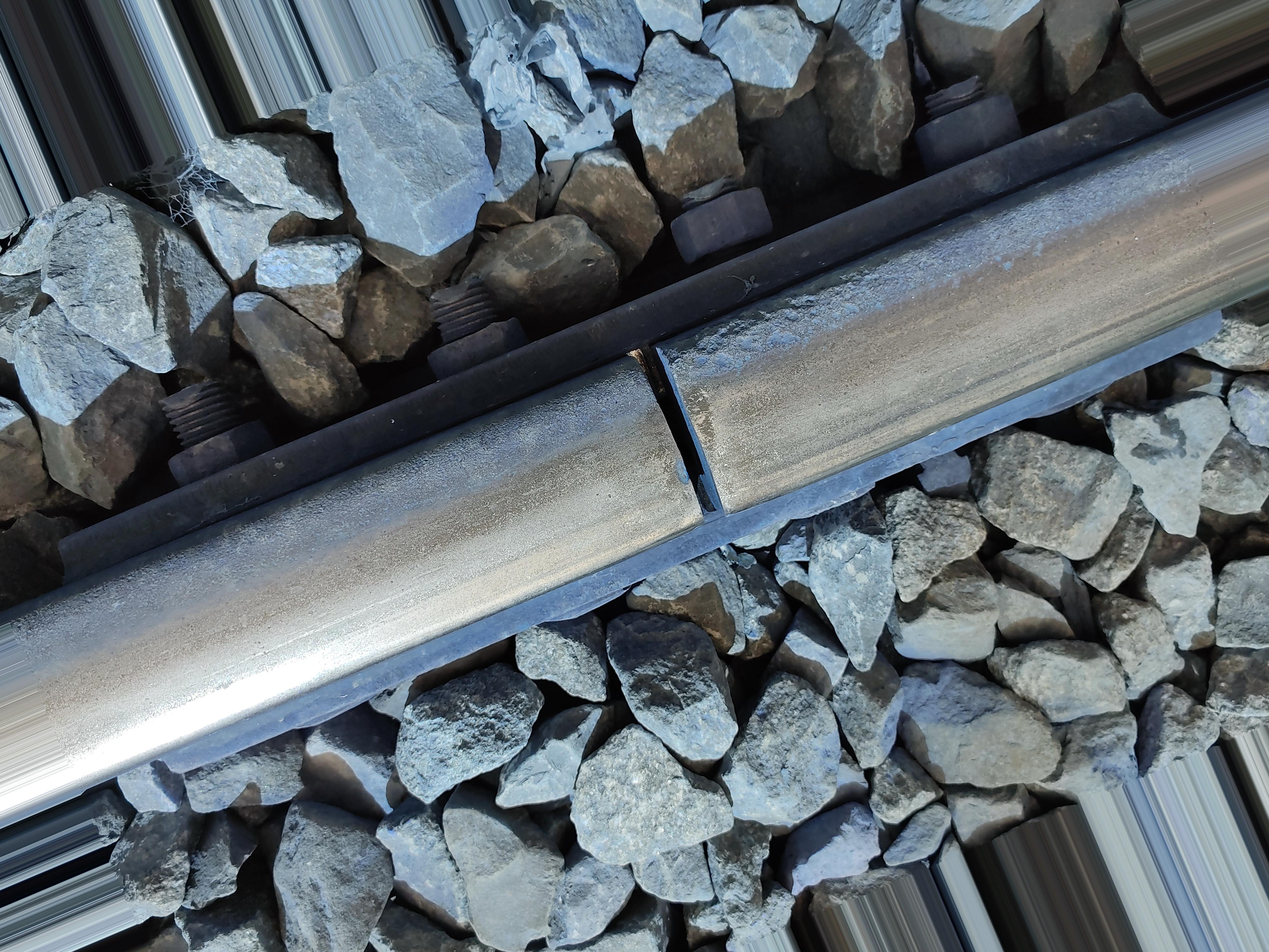tracks_fault: (601, 283, 906, 387)
